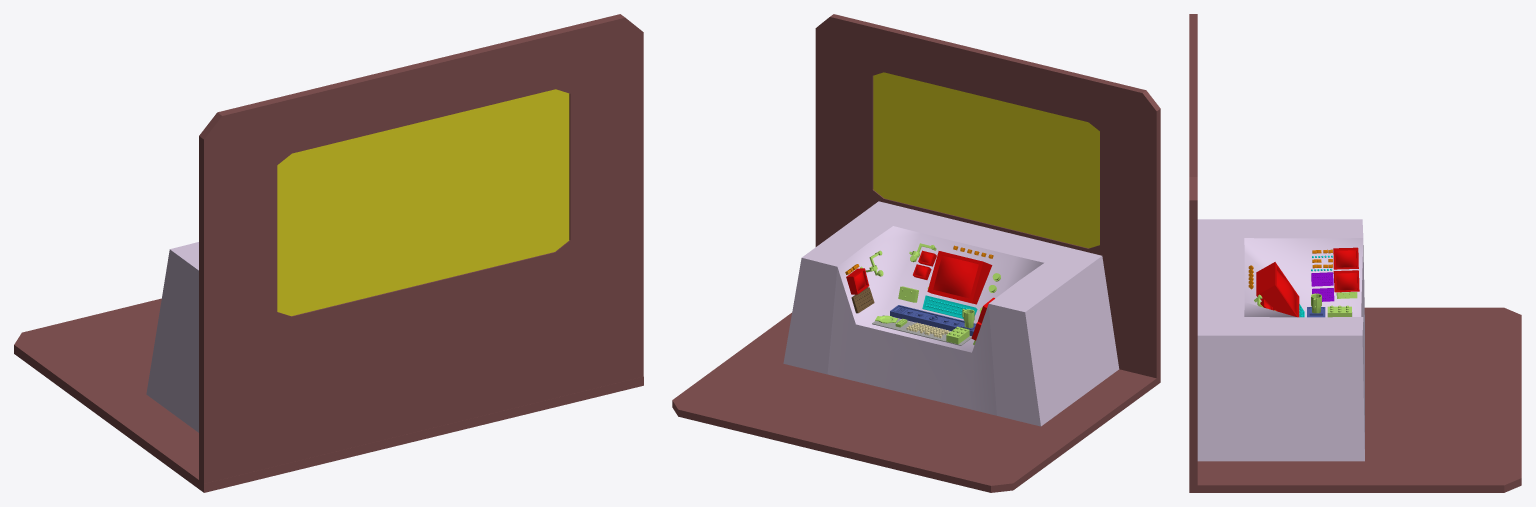
File: AlienConsola.fbx
The picture shows the model from 3 angles, left to right: view 1: azimuth 30°, elevation 25°; view 2: azimuth 150°, elevation 25°; view 3: azimuth 270°, elevation 25°; orthographic projection. The views are drawn at different scales.
Parts seen in each view (by area): view 1: pared, pPlane4, suelo, consola; view 2: consola, pared, suelo, pPlane3, pPlane2, polySurface229, polySurface303, polySurface1094; view 3: consola, suelo, pared, polySurface229, pasted__pPlane4, pasted__pPlane5.
Boxes of the visible parts, <box> form: pared: <box>199,14,643,483</box>; pPlane4: <box>277,89,569,316</box>; suelo: <box>14,298,643,492</box>; consola: <box>146,242,198,432</box>; consola: <box>783,201,1119,426</box>; pared: <box>815,14,1160,378</box>; suelo: <box>672,313,1160,492</box>; pPlane3: <box>873,72,1099,248</box>; pPlane2: <box>933,255,978,298</box>; polySurface229: <box>927,251,992,304</box>; polySurface303: <box>890,305,975,336</box>; polySurface1094: <box>922,295,977,318</box>; consola: <box>1197,219,1364,461</box>; suelo: <box>1189,307,1521,492</box>; pared: <box>1189,14,1197,485</box>; polySurface229: <box>1256,262,1299,317</box>; pasted__pPlane4: <box>1335,250,1356,267</box>; pasted__pPlane5: <box>1336,273,1357,290</box>.
Size of the model in its own units: 12.93 by 10.46 by 10.21.
